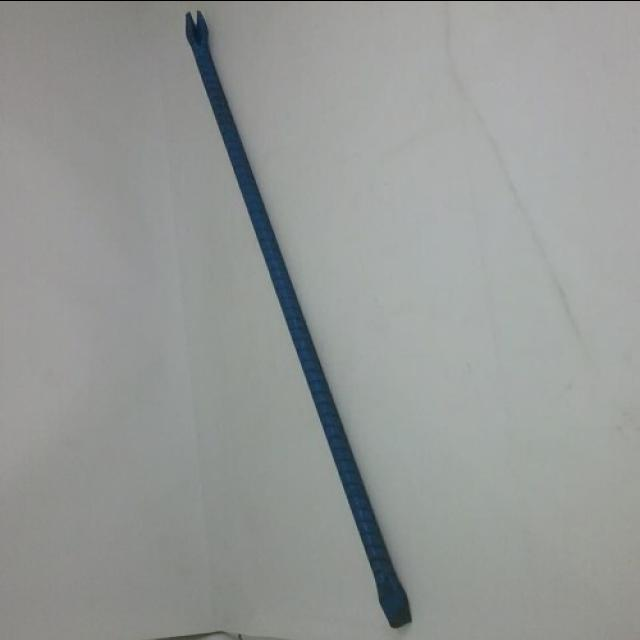Linggis: (178, 10, 417, 630)
